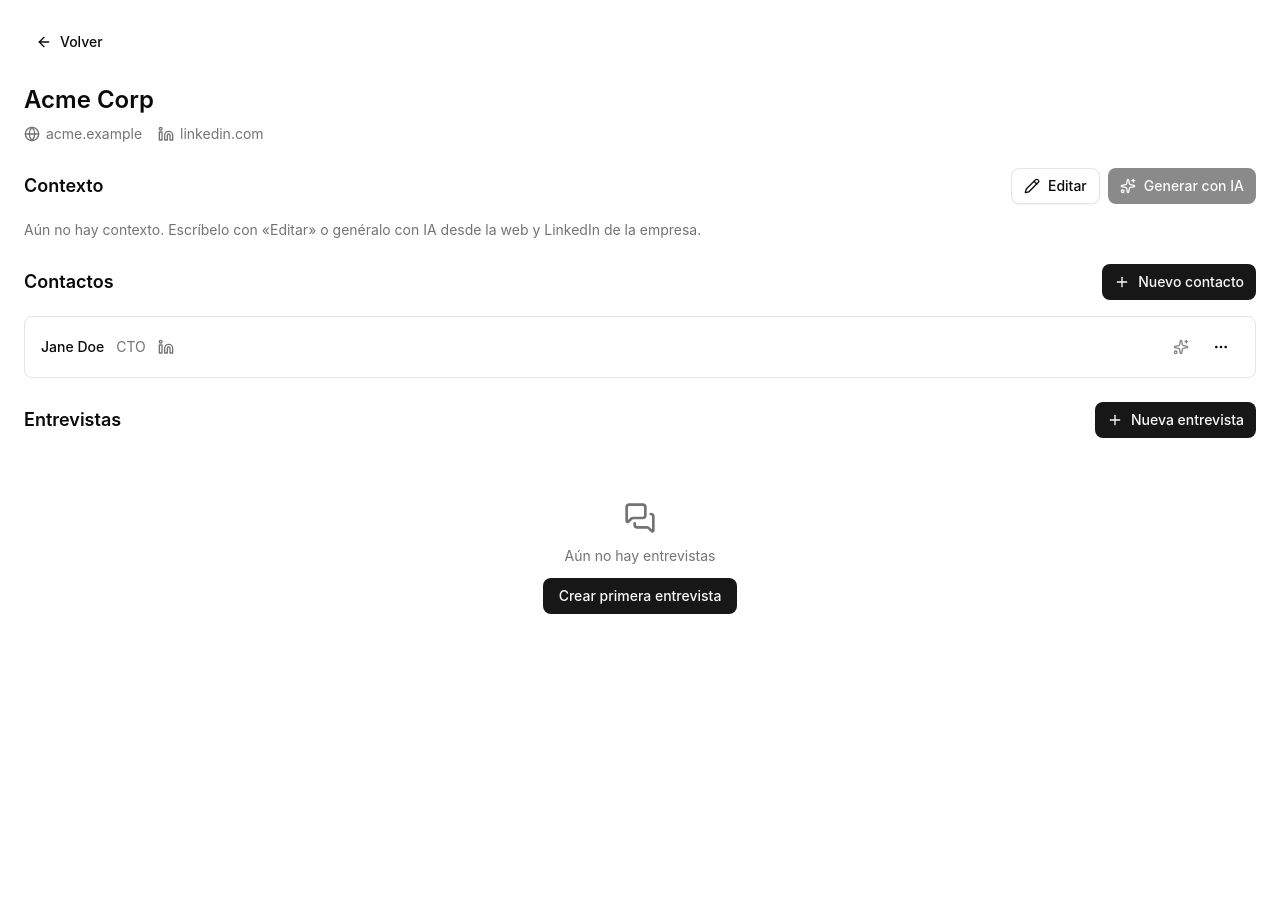
Test: CompanyDetailPage › editing a contact › opens the edit dialog preloaded, saves via updateContact and shows "Cambios guardados"
The width and height of the screenshot is (1280, 900).
Expected: the text "Jane Doe" is shown, [41,337,104,357]
Step 1. Click the button named "Acciones" → [1221, 347], box [1203,329,1239,365]
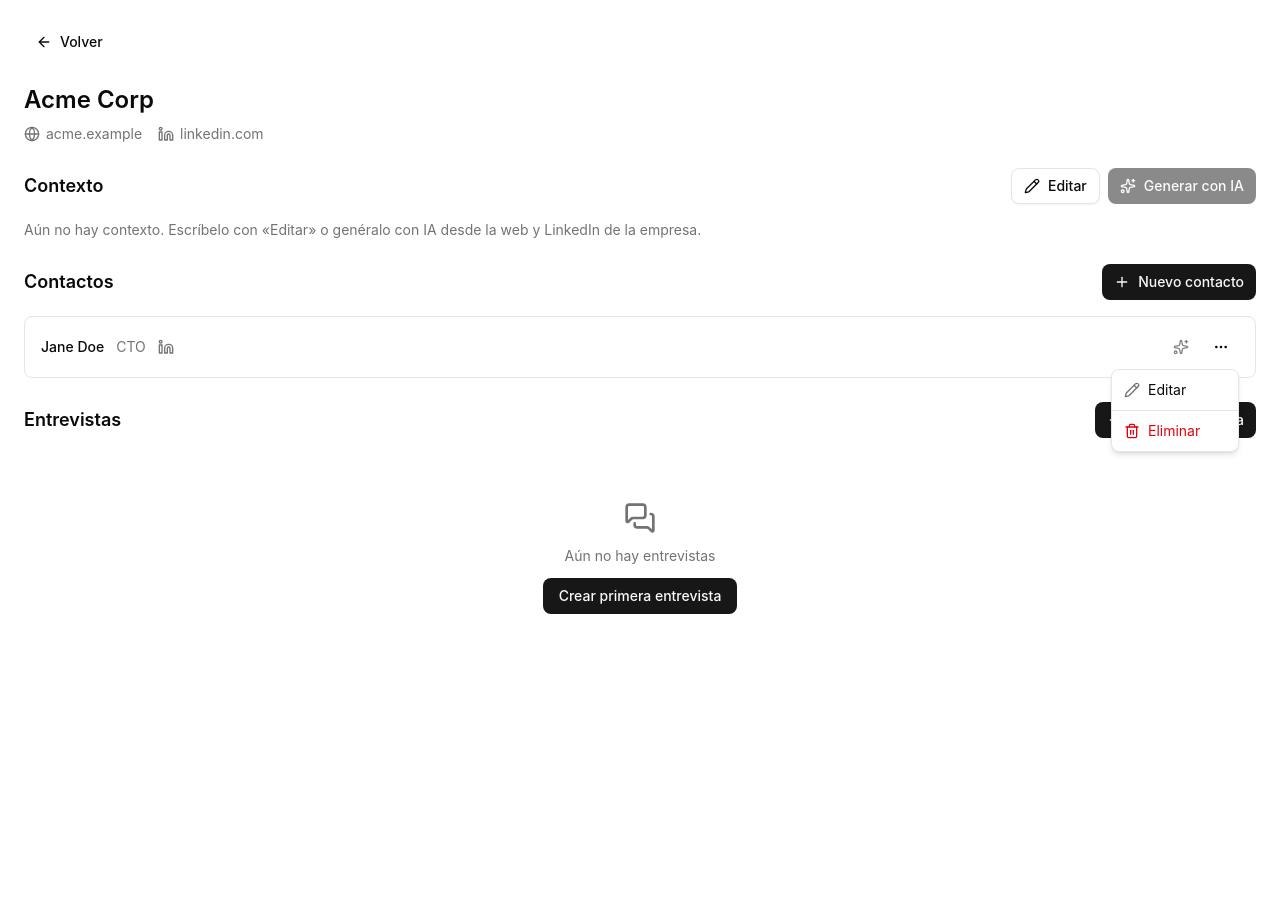
Step 2. Click the menu item "Editar" → [1155, 390], box [1124,381,1186,398]
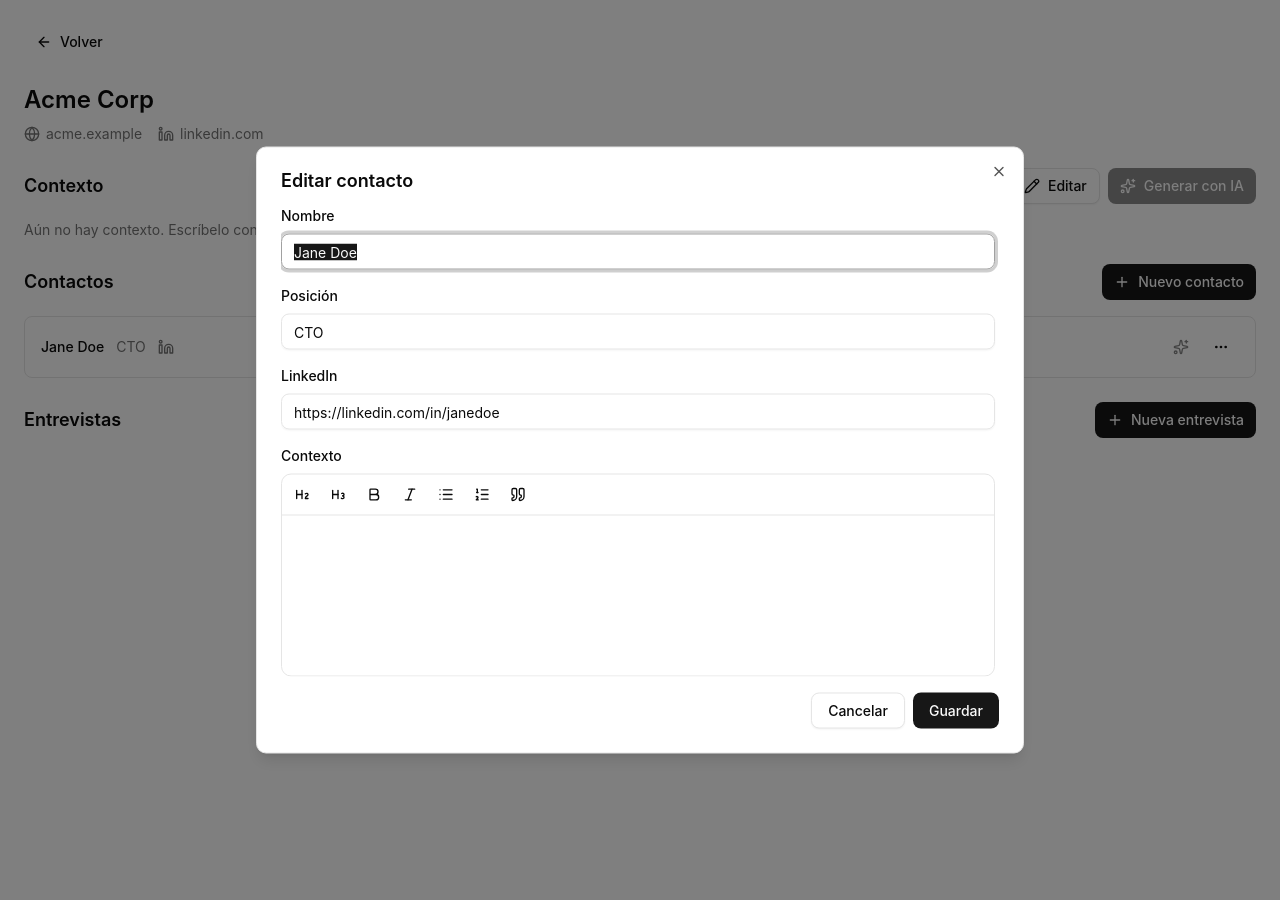
Expected: the heading "Editar contacto" is shown, [281,170,413,190]
Expected: the field labelled "Nombre" holds "Jane Doe", [281,234,995,270]
Expected: the field labelled "Posición" holds "CTO"
Step 3. Replace the text in the field labelled "Posición" with "VP of Engineering" → [638, 332], box [281,314,995,350]
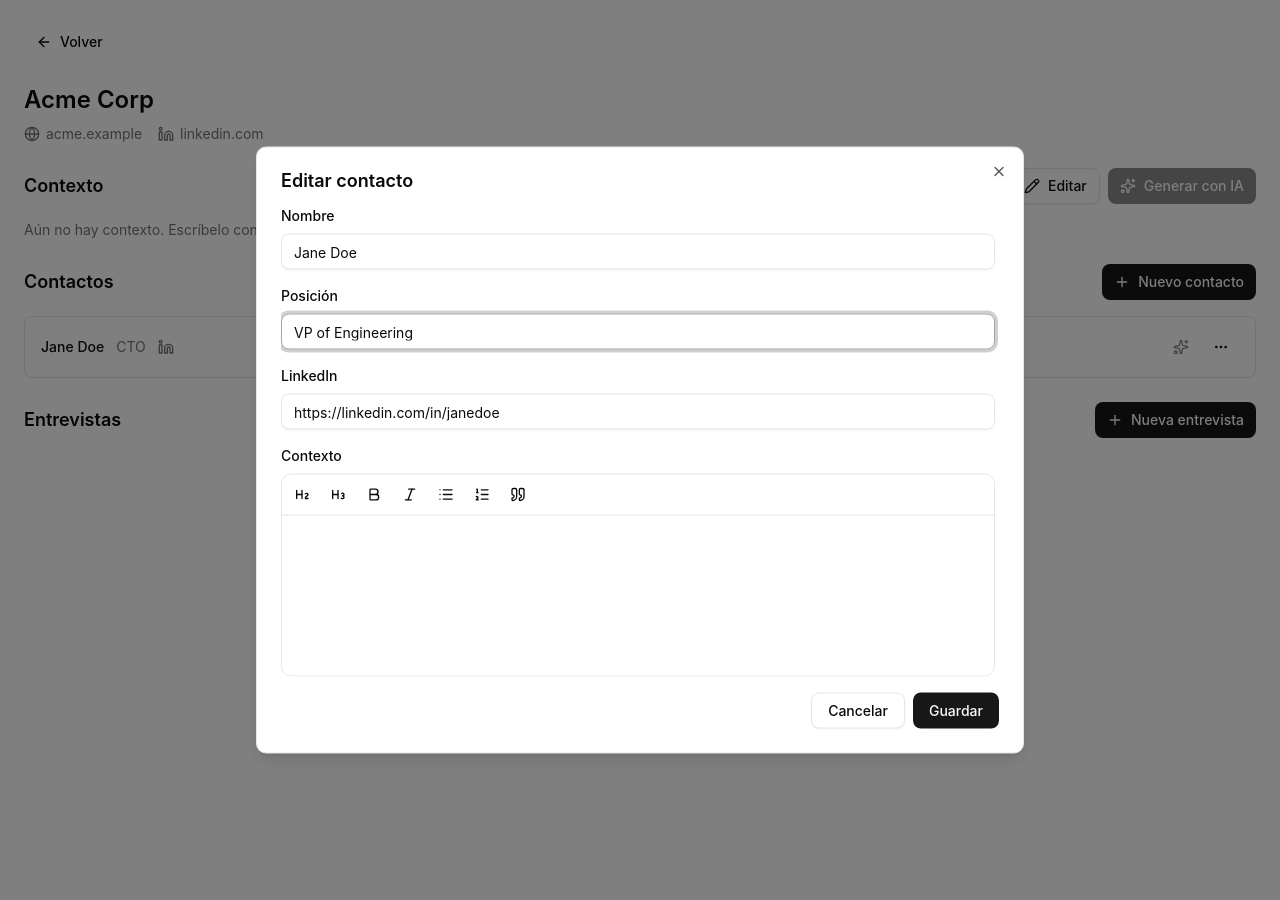
Step 4. Click the button "Guardar" → [956, 710], box [913,692,999,728]
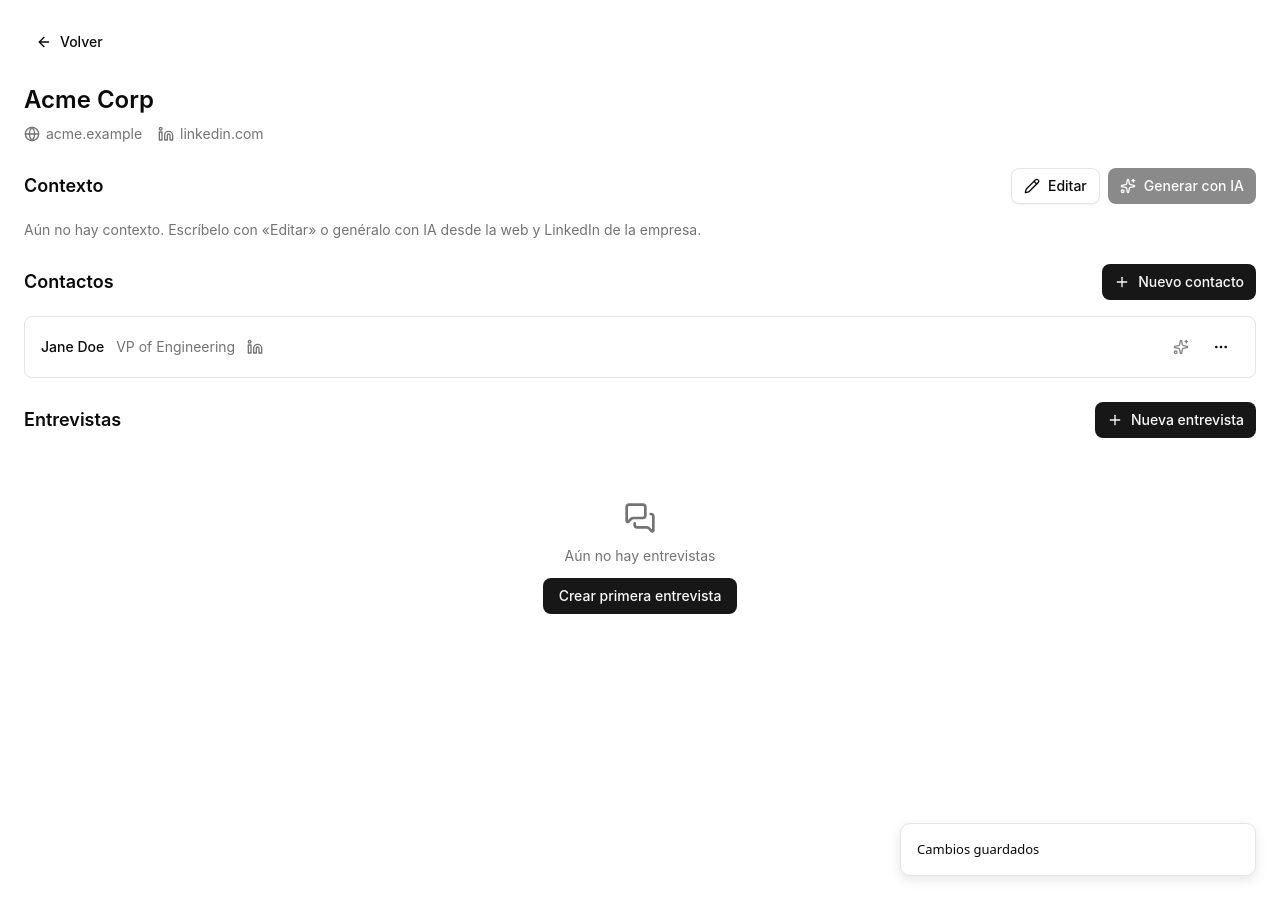
Expected: the text "VP of Engineering" is shown, [116,337,235,357]
